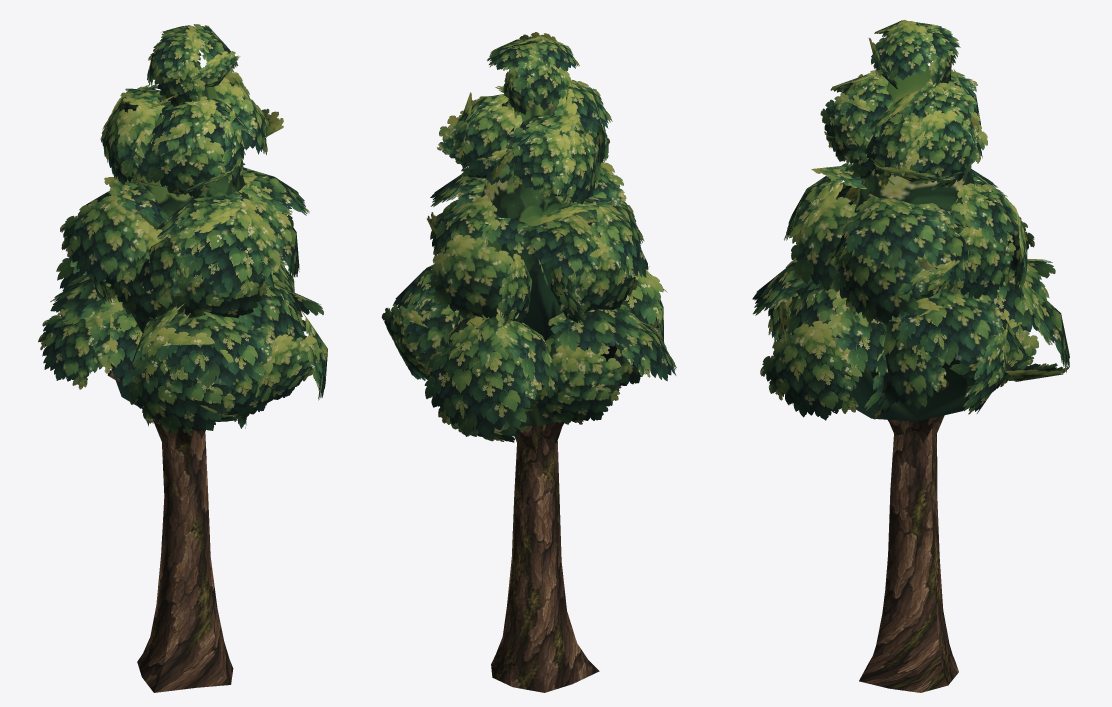
Rendered from tree_linden.glb.
The picture shows the model from 3 angles, left to right: view 1: azimuth 30°, elevation 25°; view 2: azimuth 150°, elevation 25°; view 3: azimuth 270°, elevation 25°; orthographic projection. The views are drawn at different scales.
Visible parts, largest first — view 1: tree_linden; view 2: tree_linden; view 3: tree_linden.
Part boxes in pixels (bbox=[...]): tree_linden: bbox=[38, 24, 327, 692]; tree_linden: bbox=[381, 32, 676, 692]; tree_linden: bbox=[752, 20, 1069, 692].
Size of the model in its own units: 2.92 by 6.31 by 3.2.
2 materials, 2 textured.
